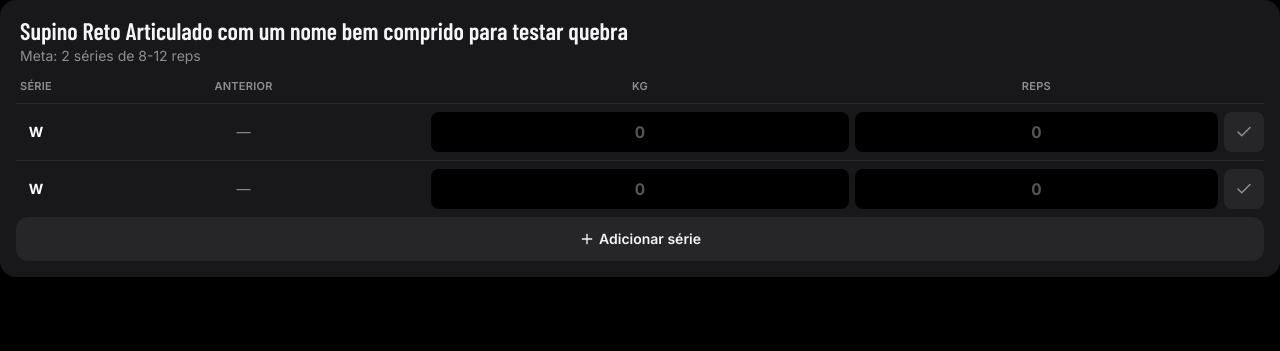
Test: ExerciseSessionCard › adicionar série cria nova linha
Click the button "Adicionar série" at x=640, y=238, box [16,216,1264,260]
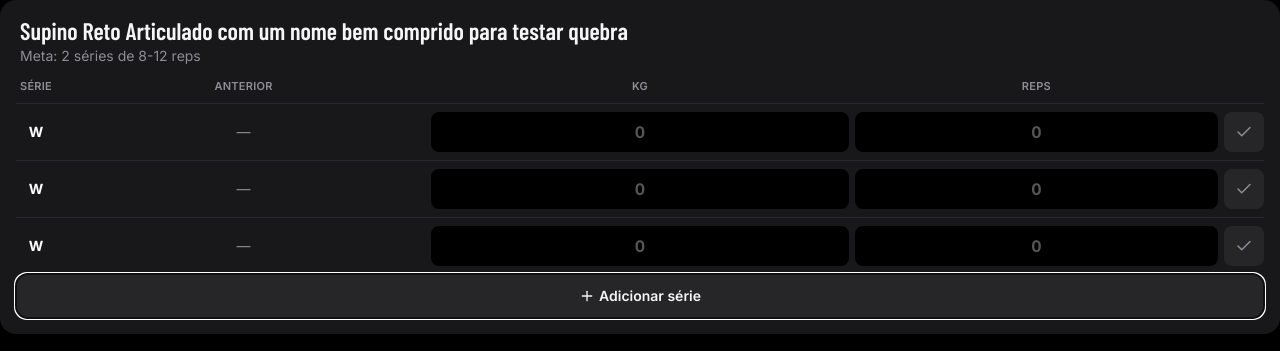
Check: the number of fields named "Peso em kg" is 3, box [431,112,849,152]; [431,168,849,208]; [431,226,849,266]
